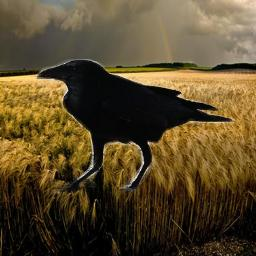Crow: (35, 59, 238, 194)
